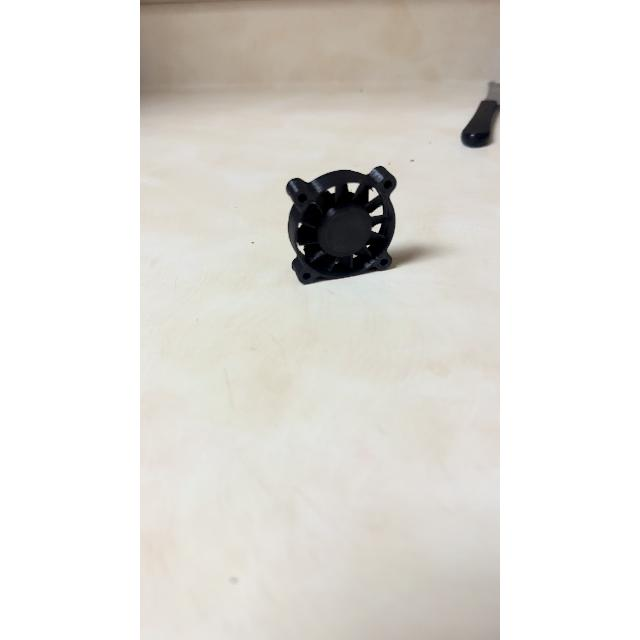Pieza_4: (240, 157, 426, 290)
